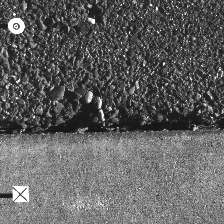circle: (7, 17, 25, 34)
crack: (1, 120, 223, 135)
square: (12, 185, 29, 202)
